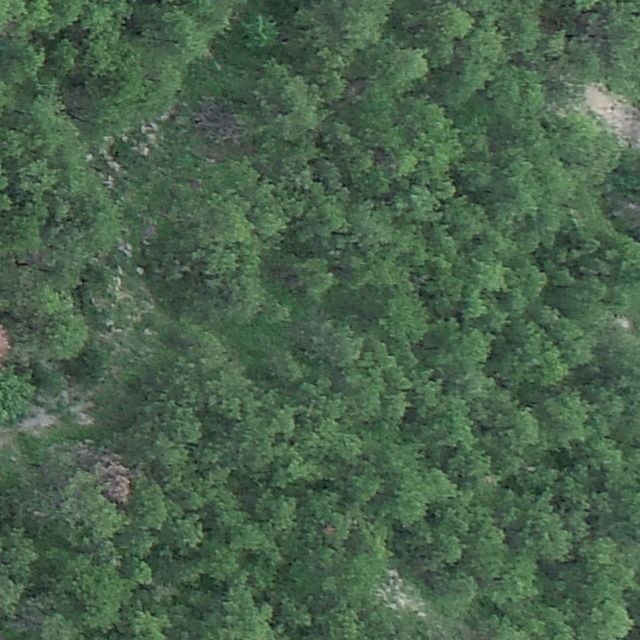unhealthy: (190, 100, 246, 152), (97, 456, 134, 503), (0, 317, 11, 370)
